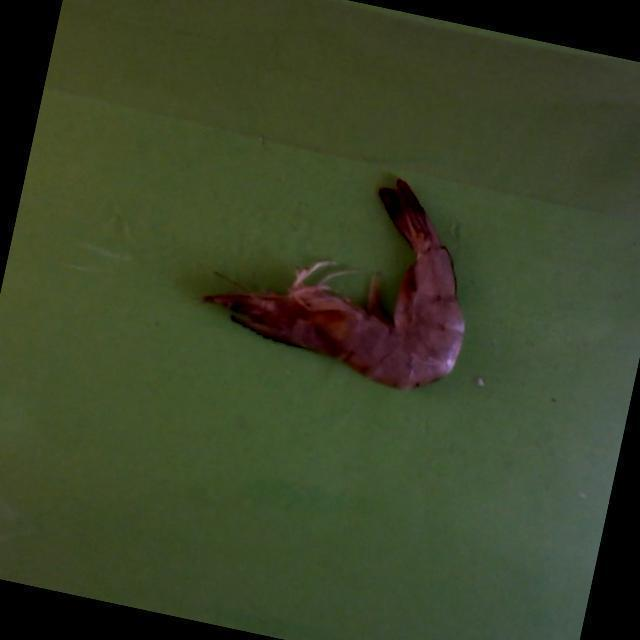shrimp: (202, 177, 464, 388)
